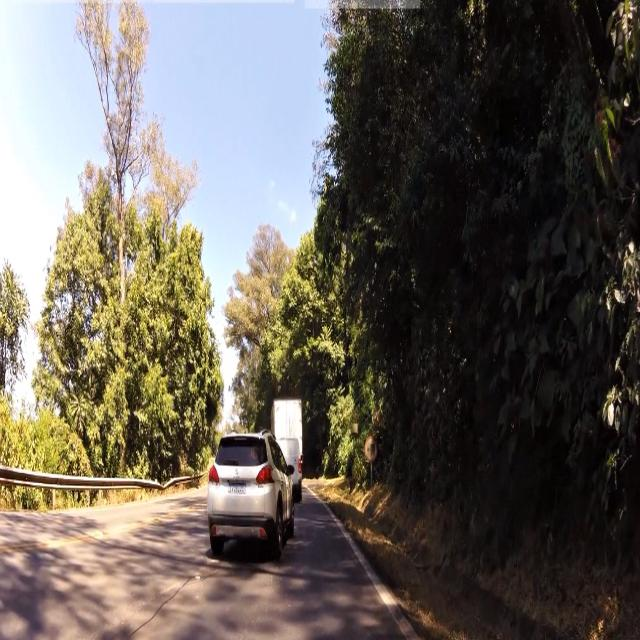R-27: (365, 435, 379, 465)
